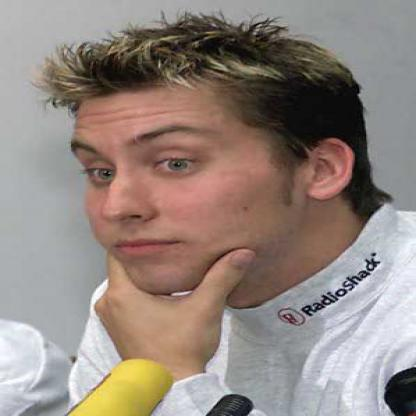face: (42, 44, 291, 299)
